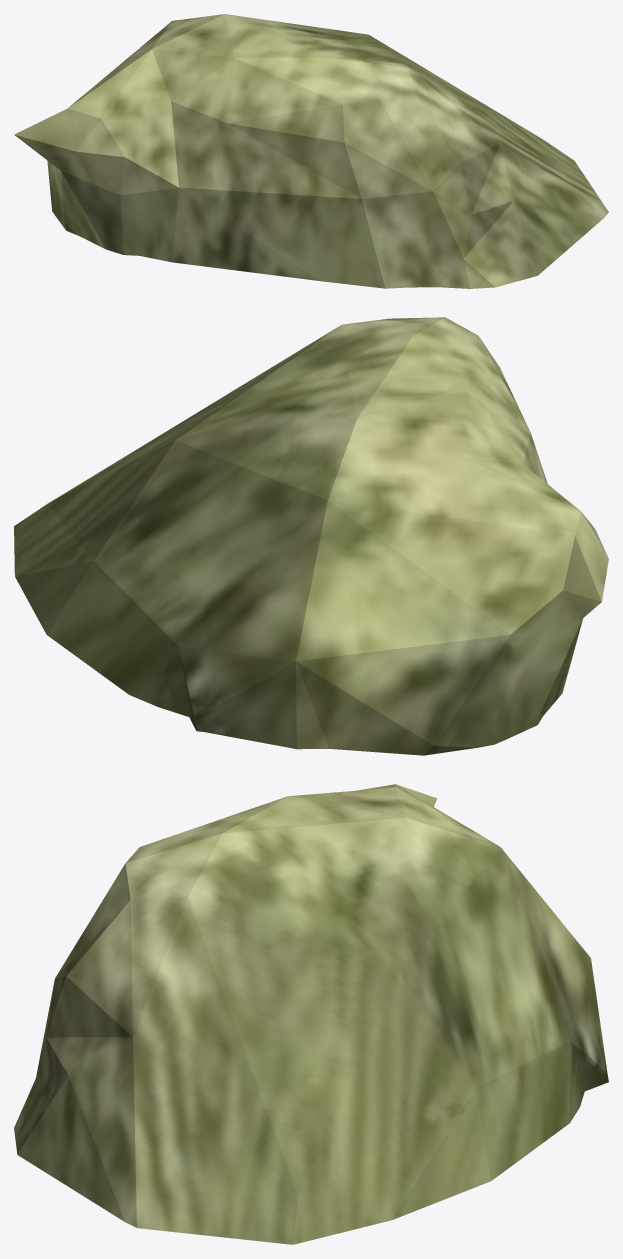
3 views of the same model, one above another, from view 1: azimuth 30°, elevation 25°; view 2: azimuth 150°, elevation 25°; view 3: azimuth 270°, elevation 25° (orthographic). The views are drawn at different scales.
Bounding box in the file's own units: 2.53 × 0.9146 × 2.04.
Materials: 1 (1 with a texture image).
